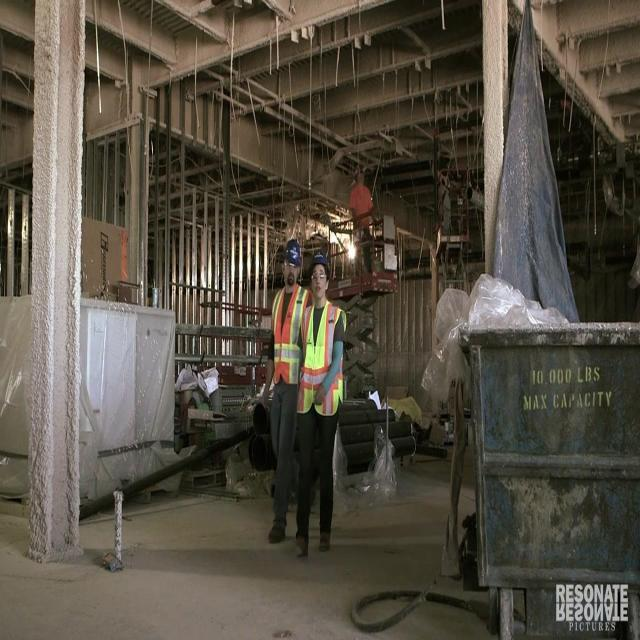Vest: (297, 298, 345, 415), (270, 284, 312, 385)
